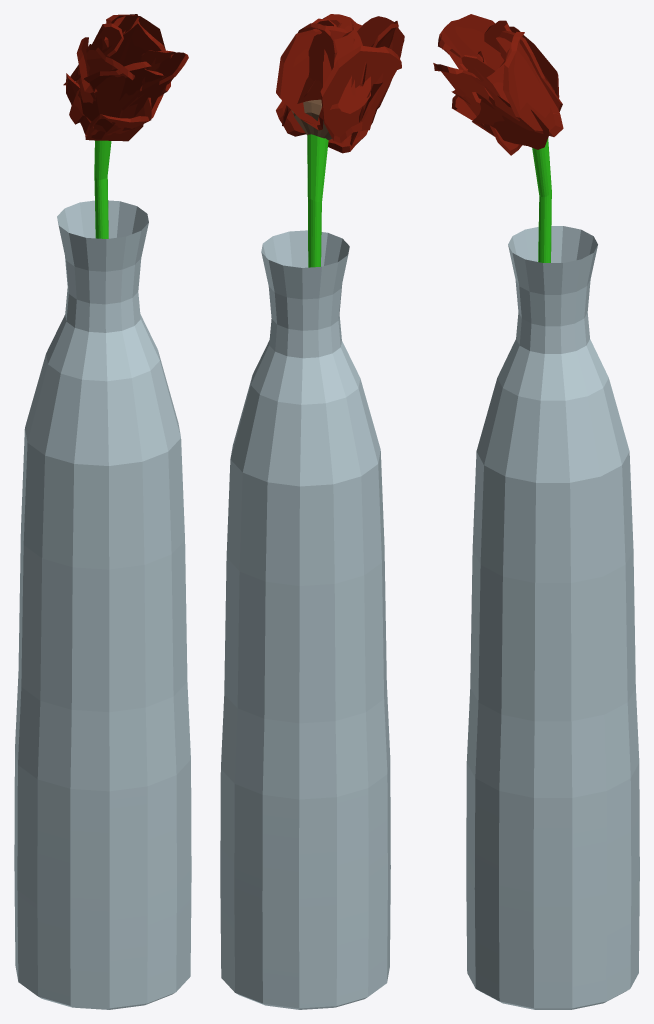
The model's file is redflower.fbx.
3 views of the same model, side by side, from view 1: azimuth 30°, elevation 25°; view 2: azimuth 150°, elevation 25°; view 3: azimuth 270°, elevation 25° (orthographic). The views are drawn at different scales.
Parts seen in each view (by area): view 1: redflower; view 2: redflower; view 3: redflower.
Boxes of the visible parts, x1=… form: redflower: x1=14, y1=14, x2=191, y2=1009; redflower: x1=220, y1=14, x2=404, y2=1009; redflower: x1=433, y1=14, x2=639, y2=1009.
Bounding box in the file's own units: 0.0588 × 0.0718 × 0.3627.
Materials: 1 (1 with a texture image).
